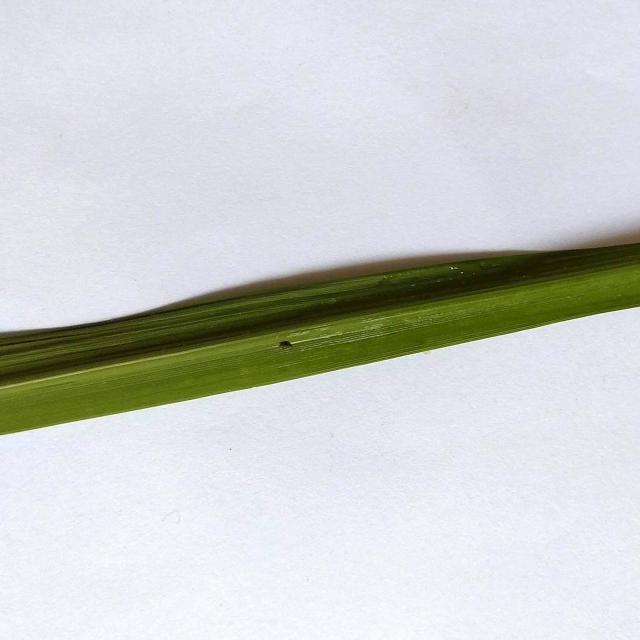healthy: (0, 214, 640, 468)
